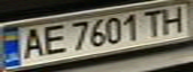0: (103, 15, 127, 45)
1: (121, 11, 145, 42)
6: (87, 16, 109, 47)
7: (66, 18, 90, 52)
A: (15, 25, 48, 61)
E: (36, 22, 69, 56)
H: (157, 6, 190, 34)
T: (139, 7, 169, 37)
